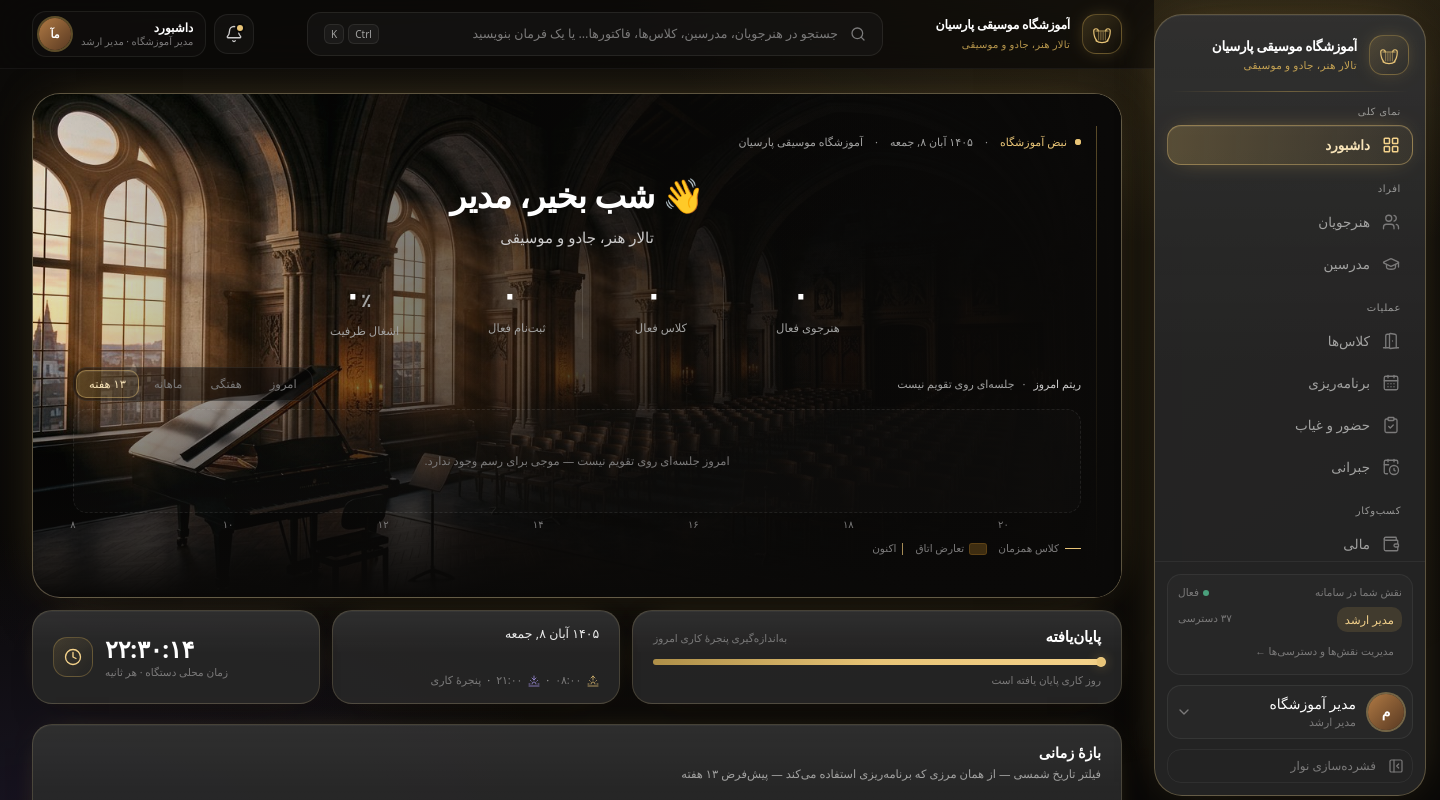
Scenario: command palette over zero records › opens, and finds no record that does not exist in this environment
Expected: the navigation bar named "ناوبری اصلی" is shown, [1155,104,1425,561]
Expected: the text "داشبورد" below "نمای کلی" is shown, [1325,136,1370,154]
Press k
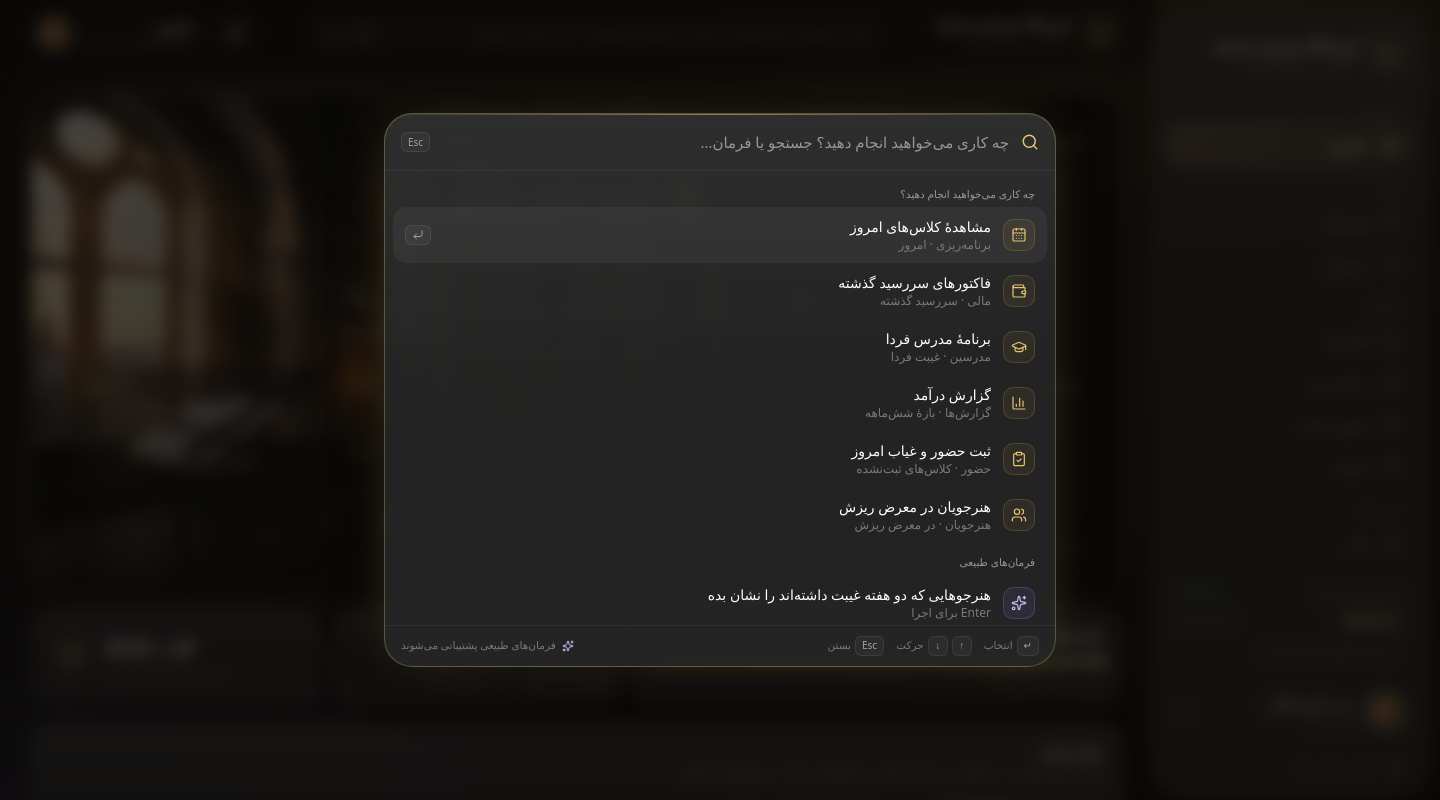
In the field with placeholder "چه کاری می‌خواهید انجام دهید؟ جستجو یا فرمان…": (726,142) [442,114,1009,170], type "سارا محمدی"
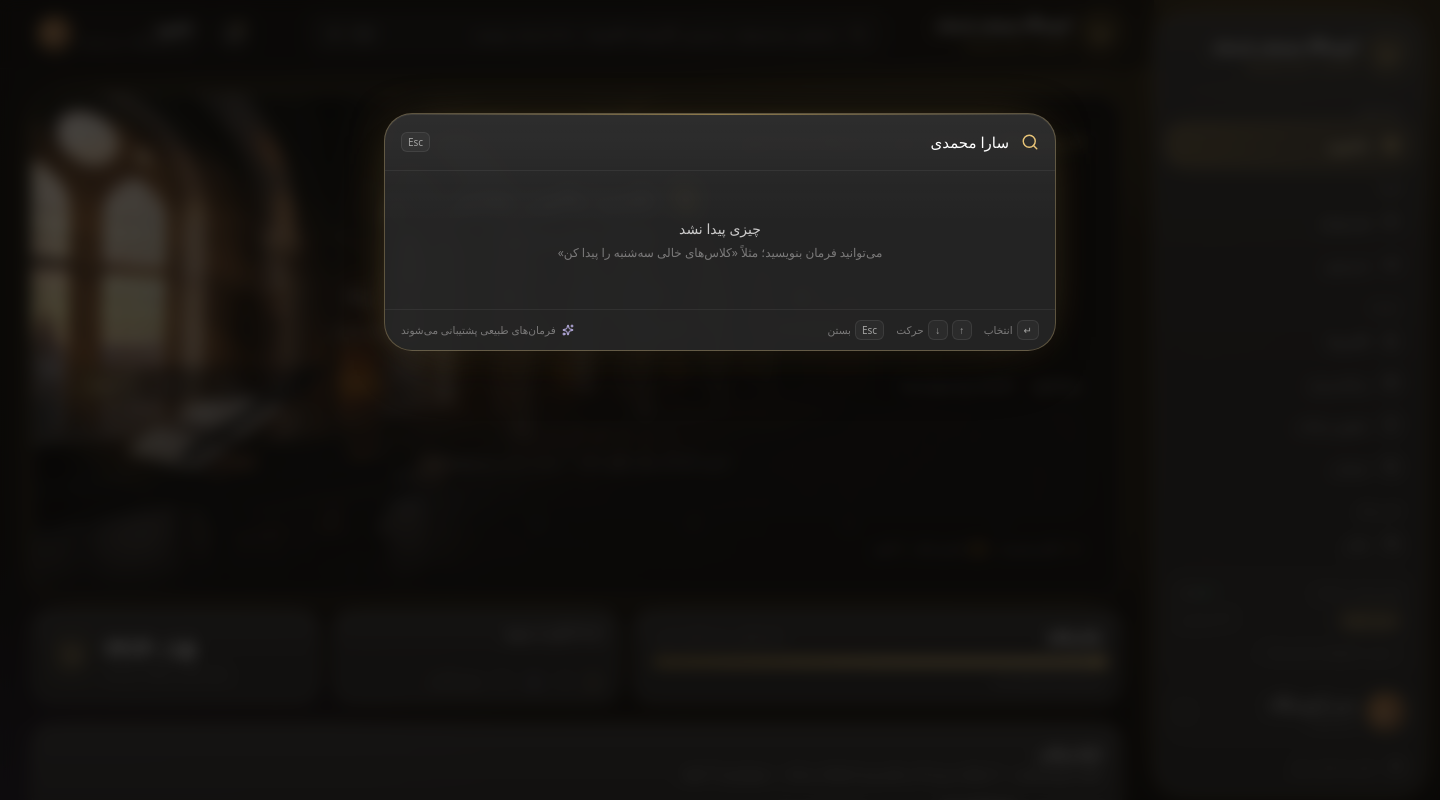
Result: the text "چیزی پیدا نشد" is shown at [679,219,761,238]
Result: no options are shown
